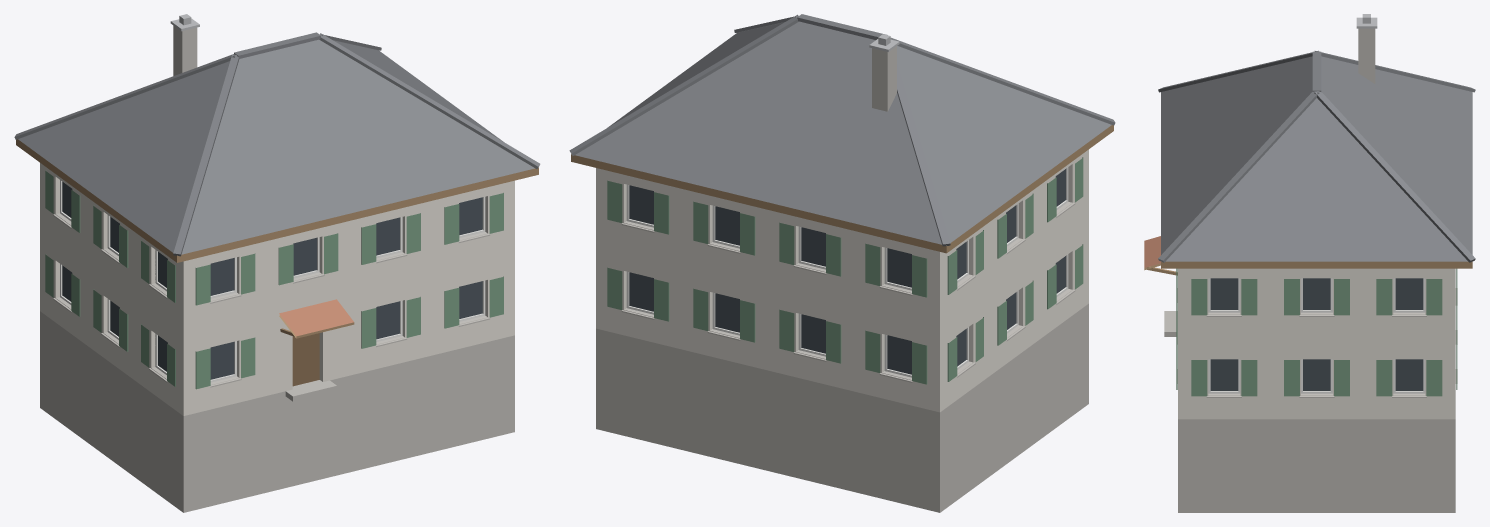
File: french_house_2_m.glb
3 views of the same model, side by side, from view 1: azimuth 30°, elevation 25°; view 2: azimuth 150°, elevation 25°; view 3: azimuth 270°, elevation 25° (orthographic). The views are drawn at different scales.
Parts seen in each view (by area): view 1: french_house_2_m; view 2: french_house_2_m; view 3: french_house_2_m.
Part boxes in pixels (bbox=[...]): french_house_2_m: bbox=[14, 14, 540, 512]; french_house_2_m: bbox=[569, 14, 1115, 512]; french_house_2_m: bbox=[1144, 14, 1475, 512].
Size of the model in its own units: 13.3 by 13.87 by 10.75.
